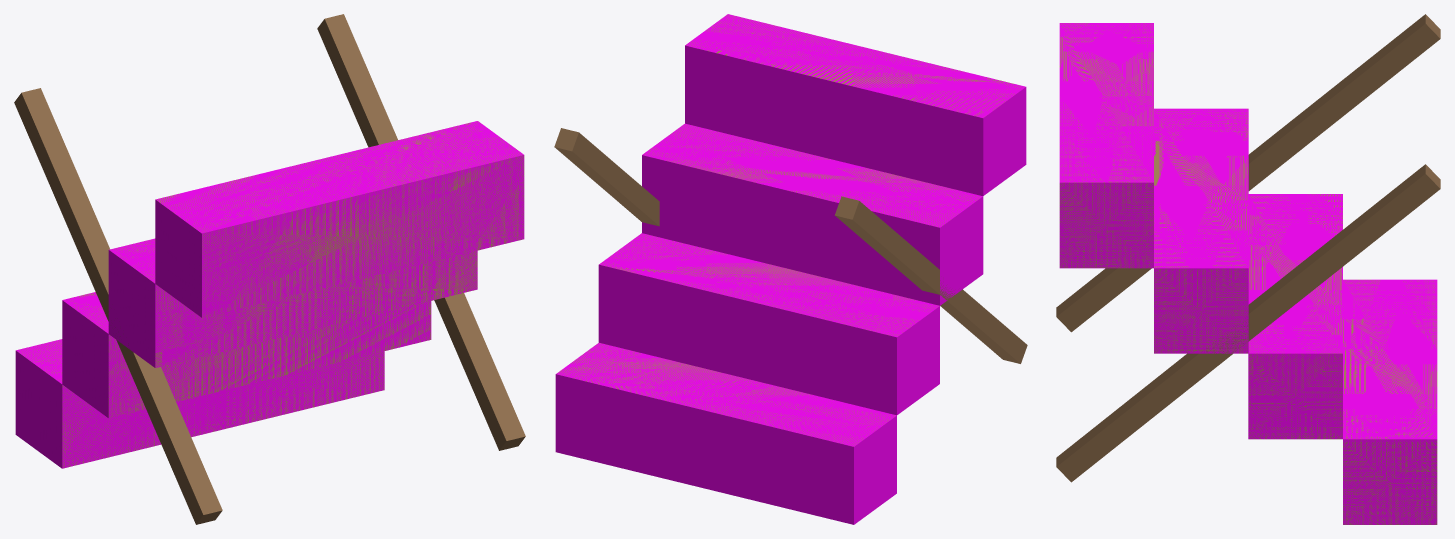
Rendered from stairs.glb.
3 views of the same model, side by side, from view 1: azimuth 30°, elevation 25°; view 2: azimuth 150°, elevation 25°; view 3: azimuth 270°, elevation 25° (orthographic). The views are drawn at different scales.
Parts seen in each view (by area): view 1: Col_stair_3, M_b0, M_b2, Col_stair_2, Col_stair_0, Col_stair_1; view 2: Col_stair_0, Col_stair_1, Col_stair_3, Col_stair_2, M_b0, M_b2; view 3: M_b0, Col_stair_3, Col_stair_0, Col_stair_2, M_b2, Col_stair_1.
Part boxes in pixels (left/top/right/bottom): Col_stair_3: left=155, top=121, right=524, bottom=317; M_b0: left=19, top=121, right=524, bottom=467; M_b2: left=14, top=14, right=525, bottom=524; Col_stair_2: left=108, top=238, right=477, bottom=367; Col_stair_0: left=15, top=339, right=384, bottom=468; Col_stair_1: left=62, top=292, right=431, bottom=418; Col_stair_0: left=555, top=343, right=896, bottom=524; Col_stair_1: left=598, top=233, right=939, bottom=415; Col_stair_3: left=685, top=14, right=1026, bottom=195; Col_stair_2: left=642, top=123, right=983, bottom=305; M_b0: left=557, top=15, right=1022, bottom=446; M_b2: left=554, top=128, right=1027, bottom=363; M_b0: left=1059, top=23, right=1437, bottom=524; Col_stair_3: left=1059, top=23, right=1153, bottom=268; Col_stair_0: left=1343, top=279, right=1437, bottom=524; Col_stair_2: left=1154, top=108, right=1248, bottom=353; M_b2: left=1056, top=14, right=1440, bottom=482; Col_stair_1: left=1248, top=194, right=1342, bottom=439.
Bounding box in the file's own units: 2 × 2.05 × 2.03.
